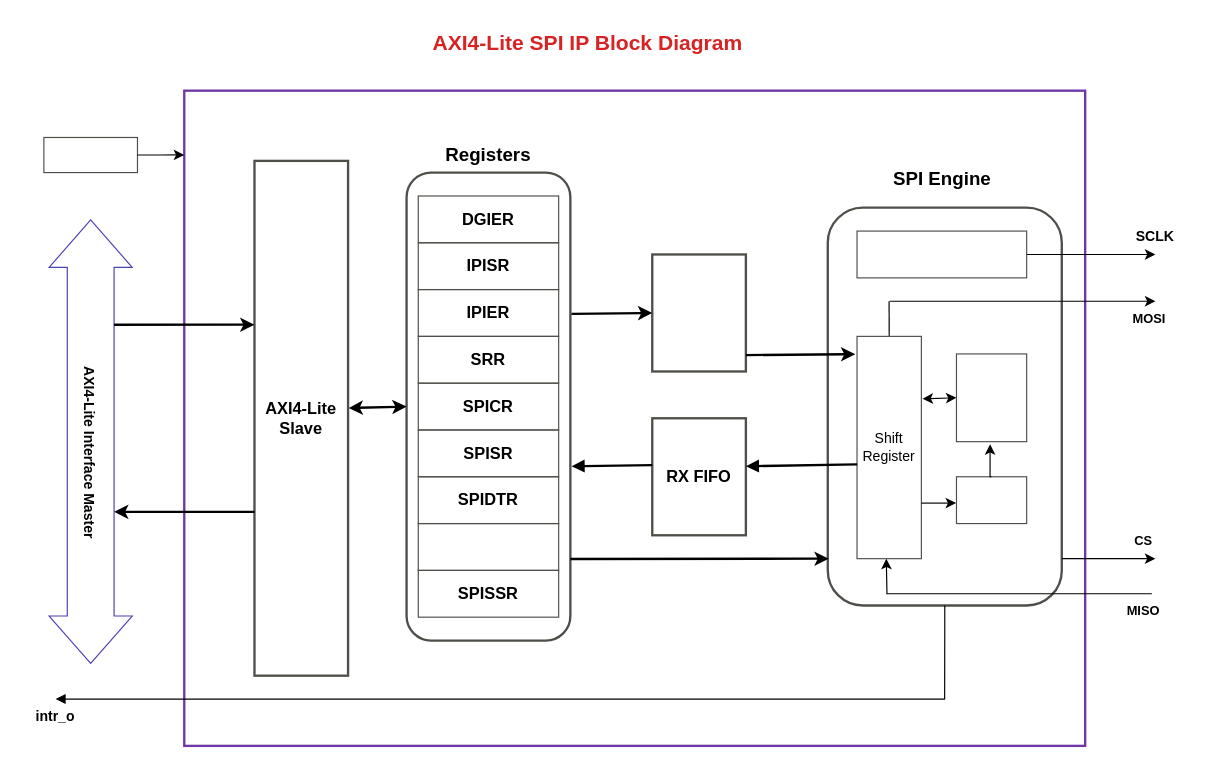
This 1210x766 diagram has some shape labels left out. Each missing label, with the centre of its shape:
"clk_i/rst_i" belongs at point 90,154.
"Clock Generator" belongs at point 941,254.
"Counter" belongs at point 991,500.
"FSM" belongs at point 991,397.
"SPIDRR" belongs at point 488,546.
"TX FIFO" belongs at point 698,312.
